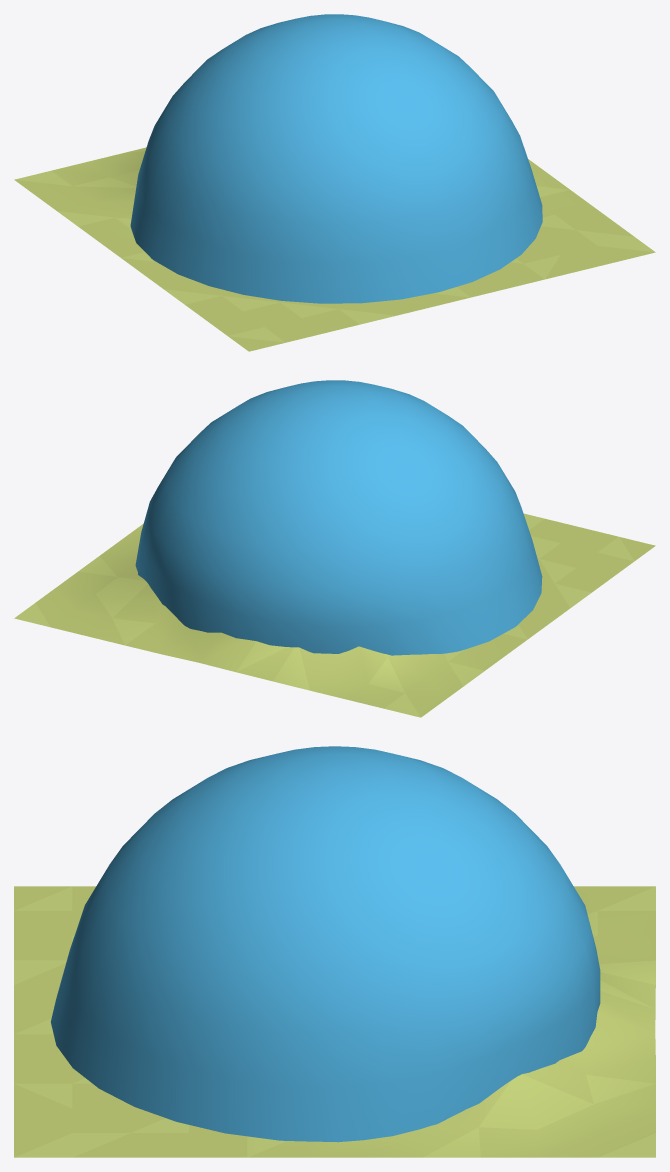
The picture shows the model from 3 angles, top to bottom: view 1: azimuth 30°, elevation 25°; view 2: azimuth 150°, elevation 25°; view 3: azimuth 270°, elevation 25°; orthographic projection. The views are drawn at different scales.
Parts seen in each view (by area): view 1: grass; view 2: grass; view 3: grass.
Boxes of the visible parts, <box> form: grass: <box>14,14,655,351</box>; grass: <box>14,380,655,717</box>; grass: <box>14,746,655,1157</box>.
Bounding box in the file's own units: 58.41 × 25.6 × 58.41.
1 material, 1 textured.
